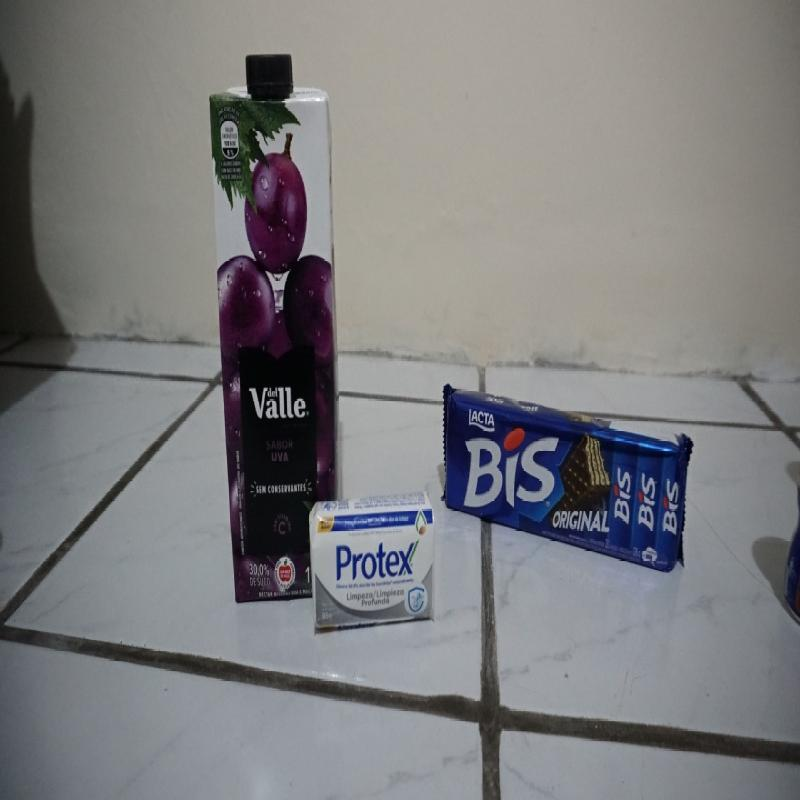Soap: (309, 488, 438, 632)
